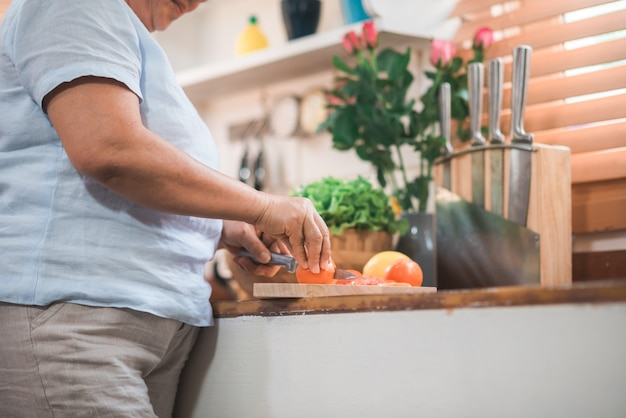knife: (508, 43, 534, 231), (240, 248, 357, 283), (464, 62, 489, 211), (486, 57, 508, 218), (437, 81, 457, 192)
